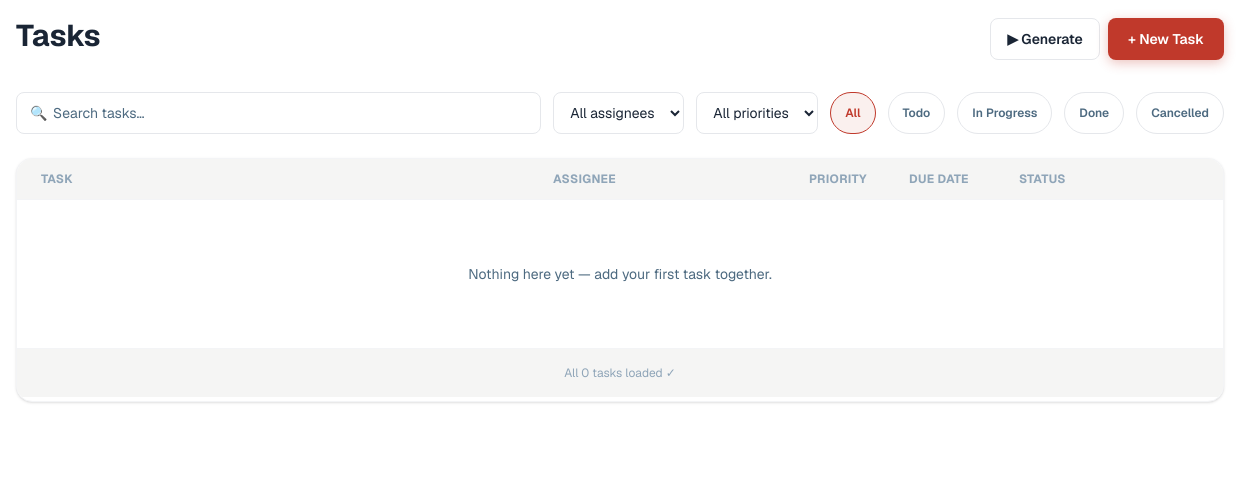
Test: Generator error display (BUG-36) › shows an error when startGenerator throws
The image size is (1246, 480).
What coordinates should you click on to do the following:
click the button "▶ Generate"
I would click on:
 (1045, 39)
Its box is left=990, top=18, right=1100, bottom=60.
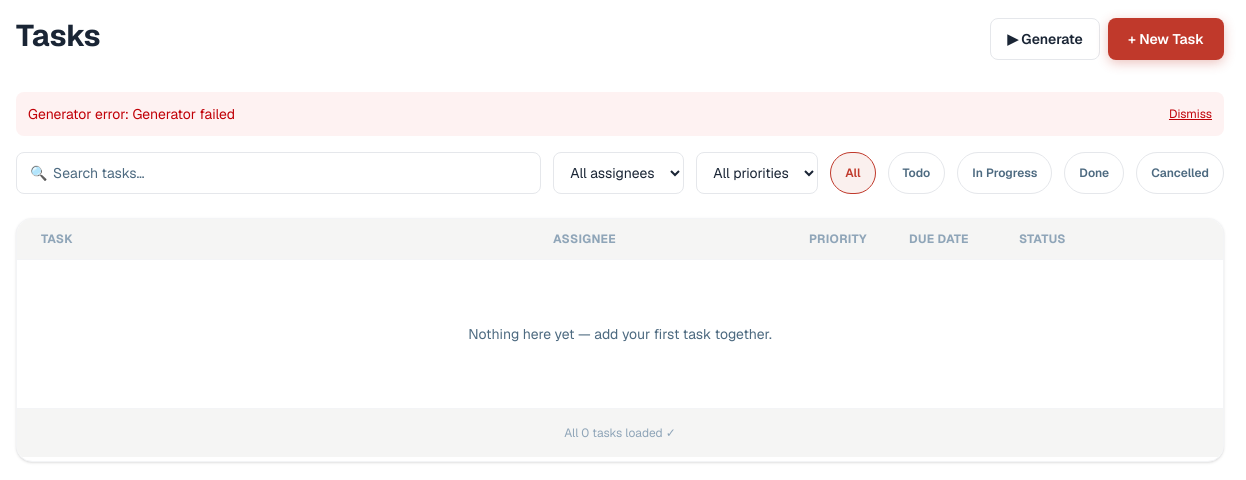
Now the message shows "Generator", box left=28, top=105, right=235, bottom=123
